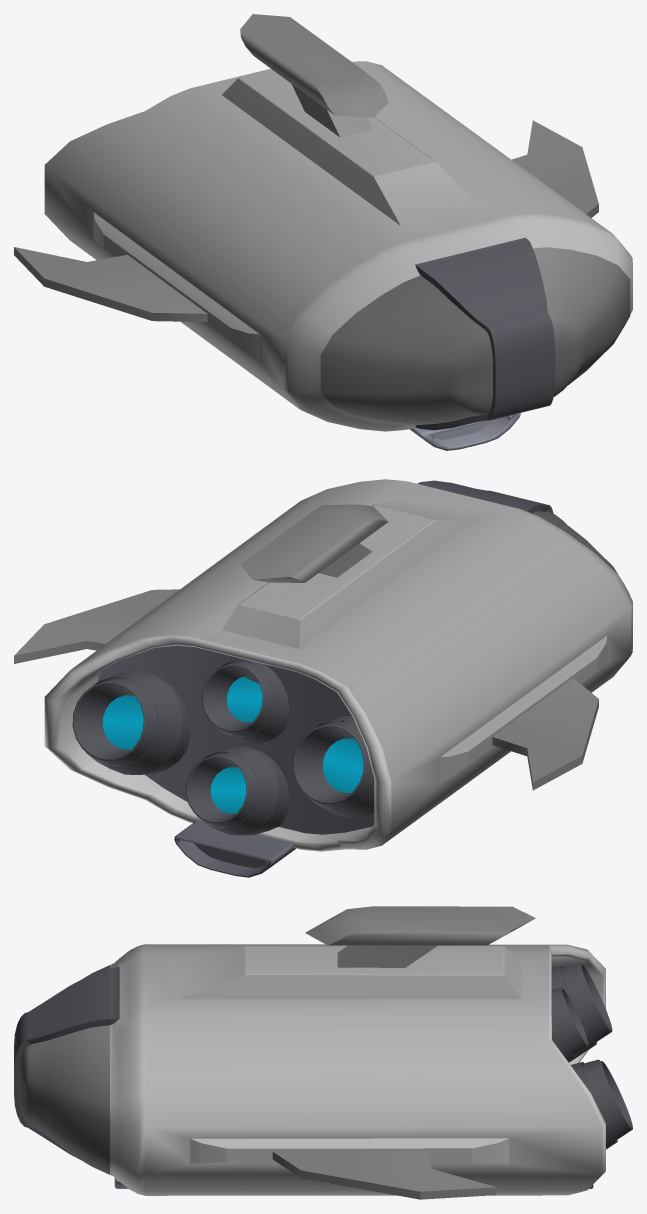
Rendered from SM_Ship.fbx.
The picture shows the model from 3 angles, top to bottom: view 1: azimuth 30°, elevation 25°; view 2: azimuth 150°, elevation 25°; view 3: azimuth 270°, elevation 25°; orthographic projection. The views are drawn at different scales.
Parts seen in each view (by area): view 1: SM_Ship; view 2: SM_Ship; view 3: SM_Ship.
Part boxes in pixels (x1,y1,x2,y2): SM_Ship: [14, 14, 632, 450]; SM_Ship: [14, 479, 632, 877]; SM_Ship: [14, 906, 632, 1199].
Size of the model in its own units: 869 by 420 by 905.
